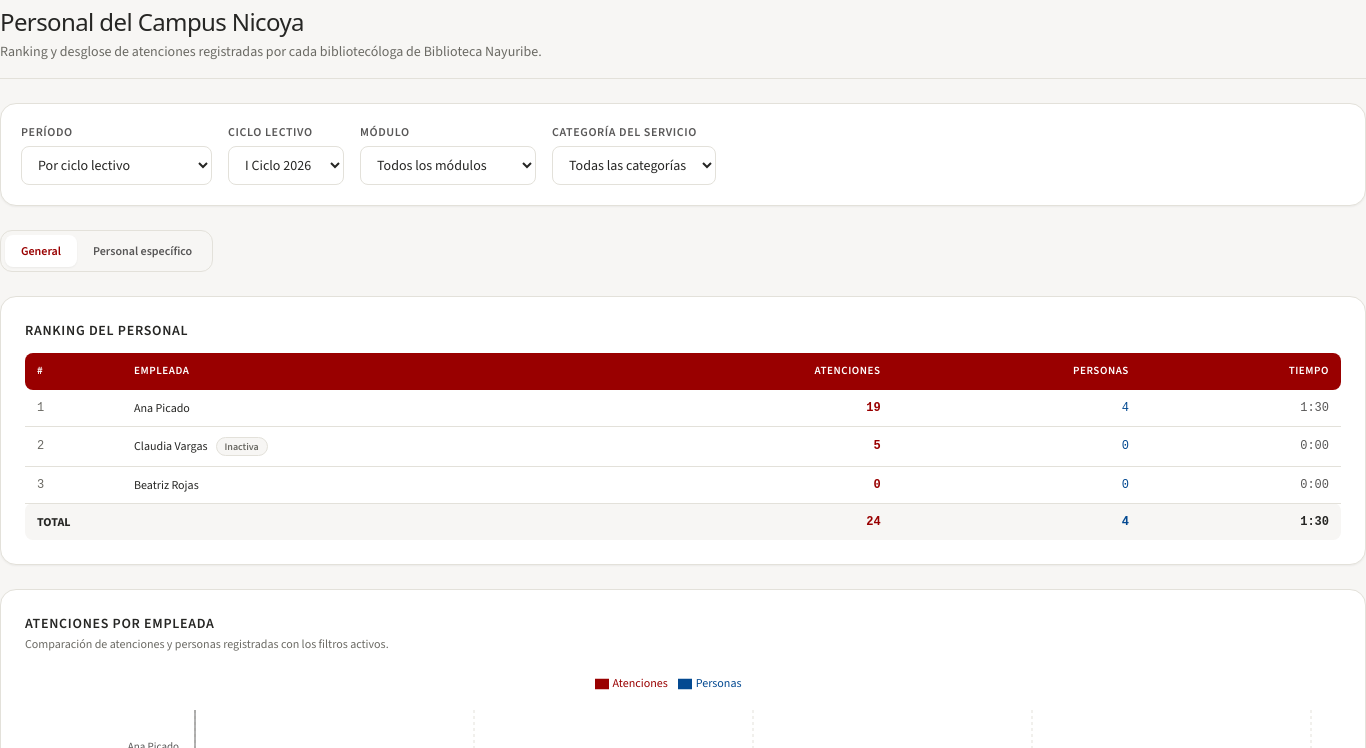
EstadisticasPersonalView (toggle, tarjetas, filtros y estados) › muestra estado vacío del desglose cuando la empleada no tiene registros
The image size is (1366, 748).
Expected: the element with test id "panel-ranking" is shown, left=0, top=296, right=1365, bottom=565
Click the button with test id "toggle-personal": (143, 251) left=77, top=235, right=208, bottom=267
(page scrolled)
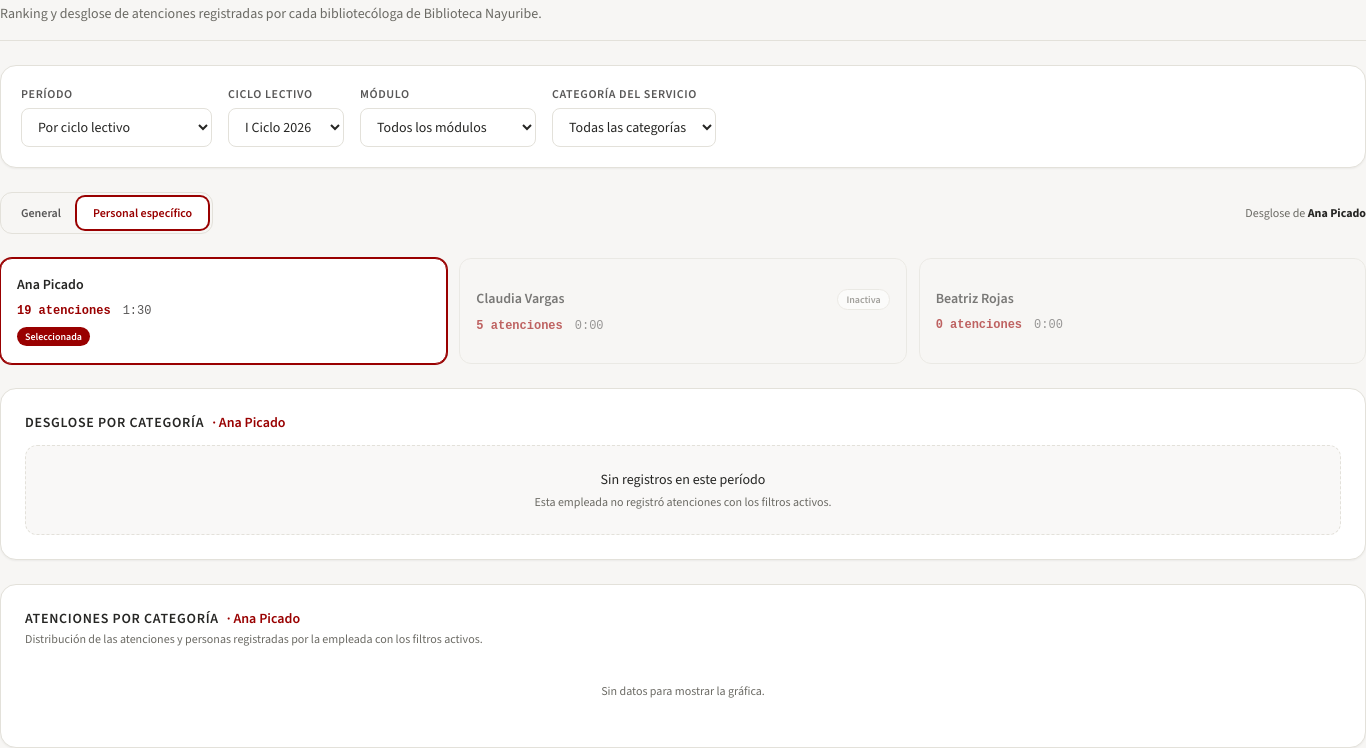
Expected: the text with test id "desglose-vacio" is shown, left=534, top=494, right=831, bottom=510
Expected: the text "Sin datos para mostrar la gráfica." is shown, left=601, top=683, right=765, bottom=699
